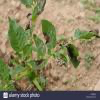Potato leaf late blight: (39, 17, 56, 50), (66, 44, 81, 69), (74, 28, 99, 41), (33, 0, 47, 22), (28, 59, 46, 68)
